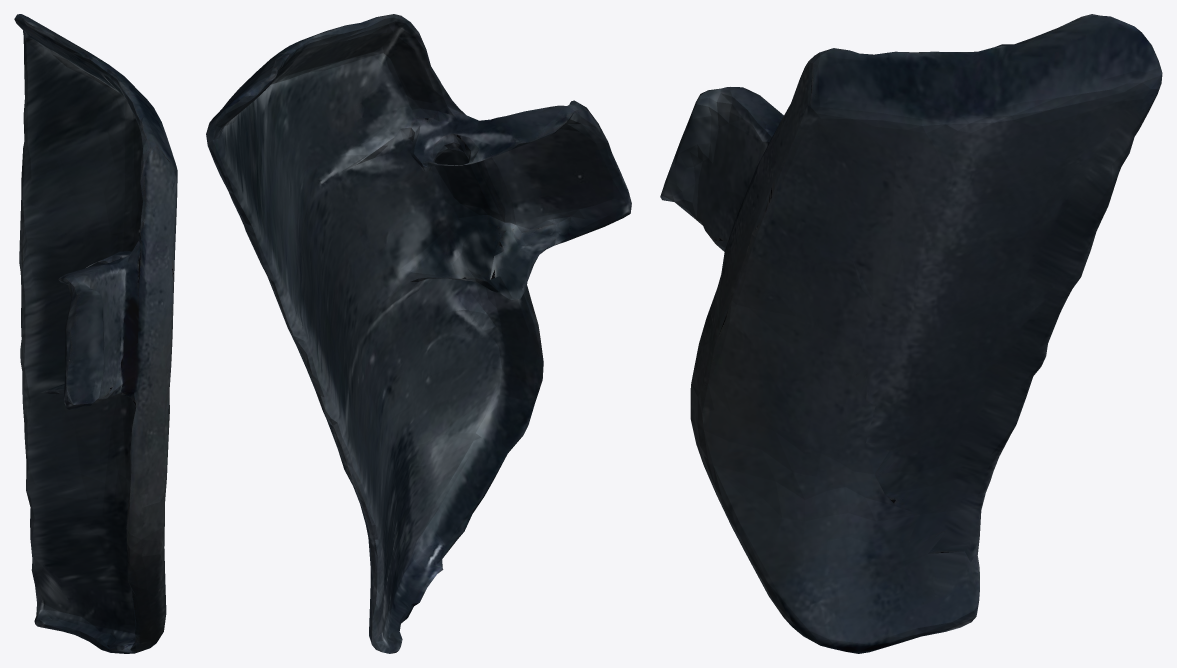
File: SPD-89001X-B.obj
3 renders of one model, left to right at view 1: azimuth 30°, elevation 25°; view 2: azimuth 150°, elevation 25°; view 3: azimuth 270°, elevation 25°, orthographic. The views are drawn at different scales.
Visible parts, largest first — view 1: SPD-89001X-B; view 2: SPD-89001X-B; view 3: SPD-89001X-B.
Part boxes in pixels (x1=…): SPD-89001X-B: x1=14, y1=14, x2=177, y2=653; SPD-89001X-B: x1=206, y1=14, x2=631, y2=653; SPD-89001X-B: x1=660, y1=14, x2=1162, y2=653.
Size of the model in its own units: 40.66 by 103 by 72.42.
Materials: 1 (1 with a texture image).
